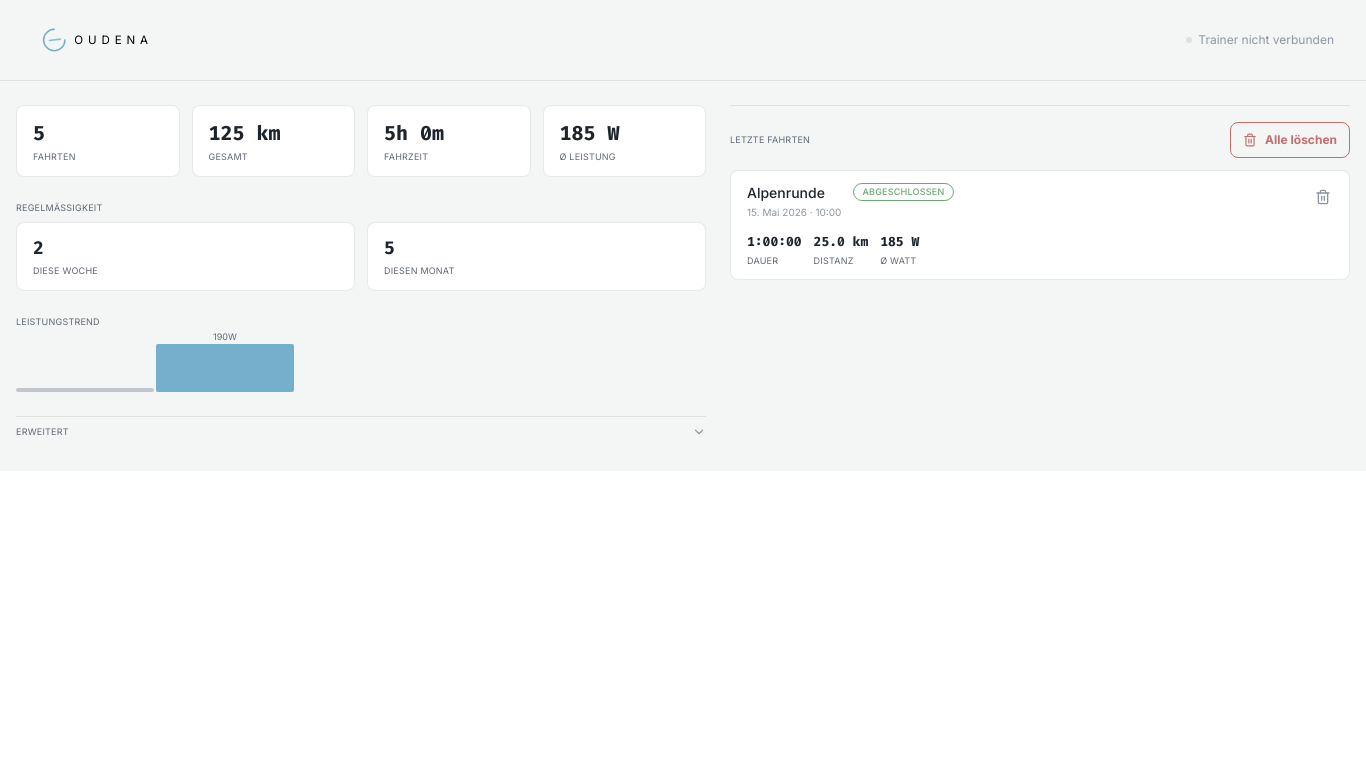
Scenario: AnalyticsScreen › advanced section closes on second toggle click
The width and height of the screenshot is (1366, 768).
Click the button with test id "advanced-toggle": (42, 432) [16, 416, 706, 447]
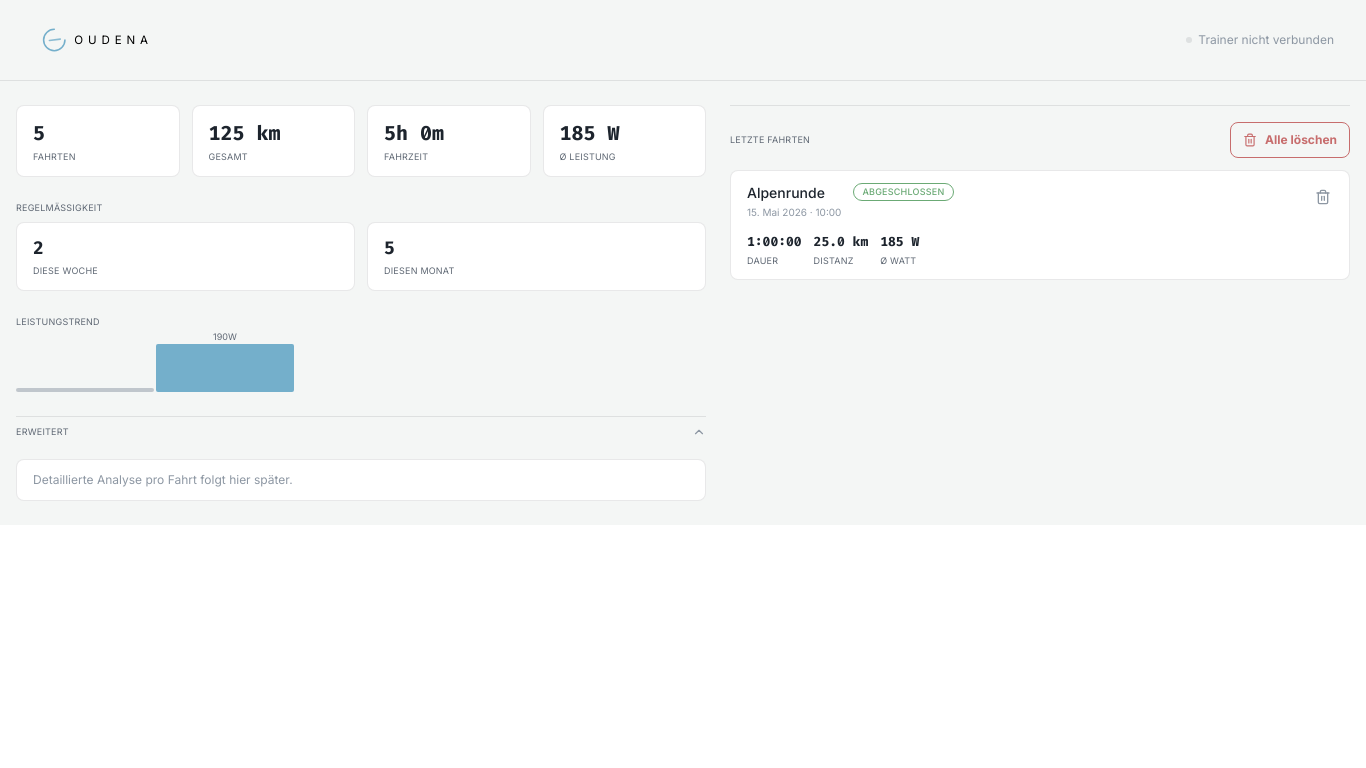
Click the button with test id "advanced-toggle": (42, 432) [16, 416, 706, 447]
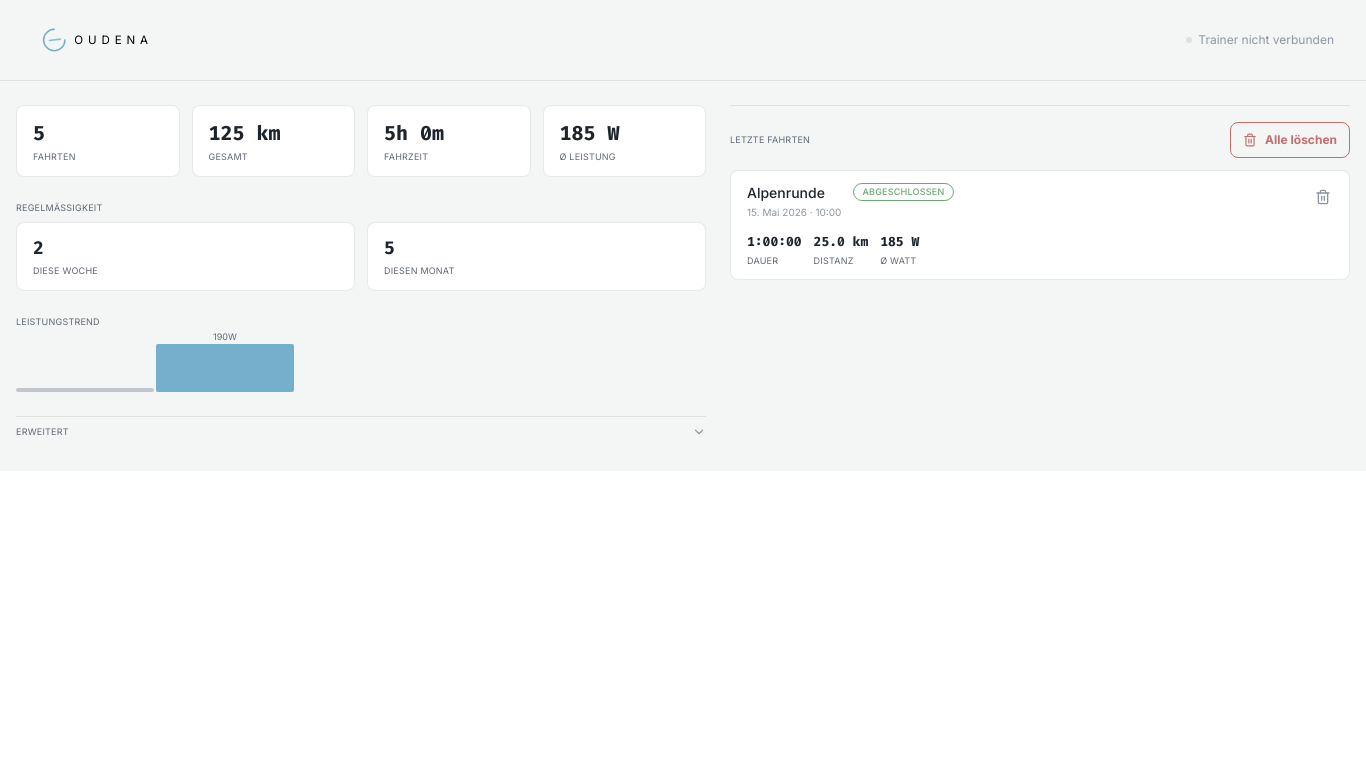
Now the element with test id "advanced-content" is gone
